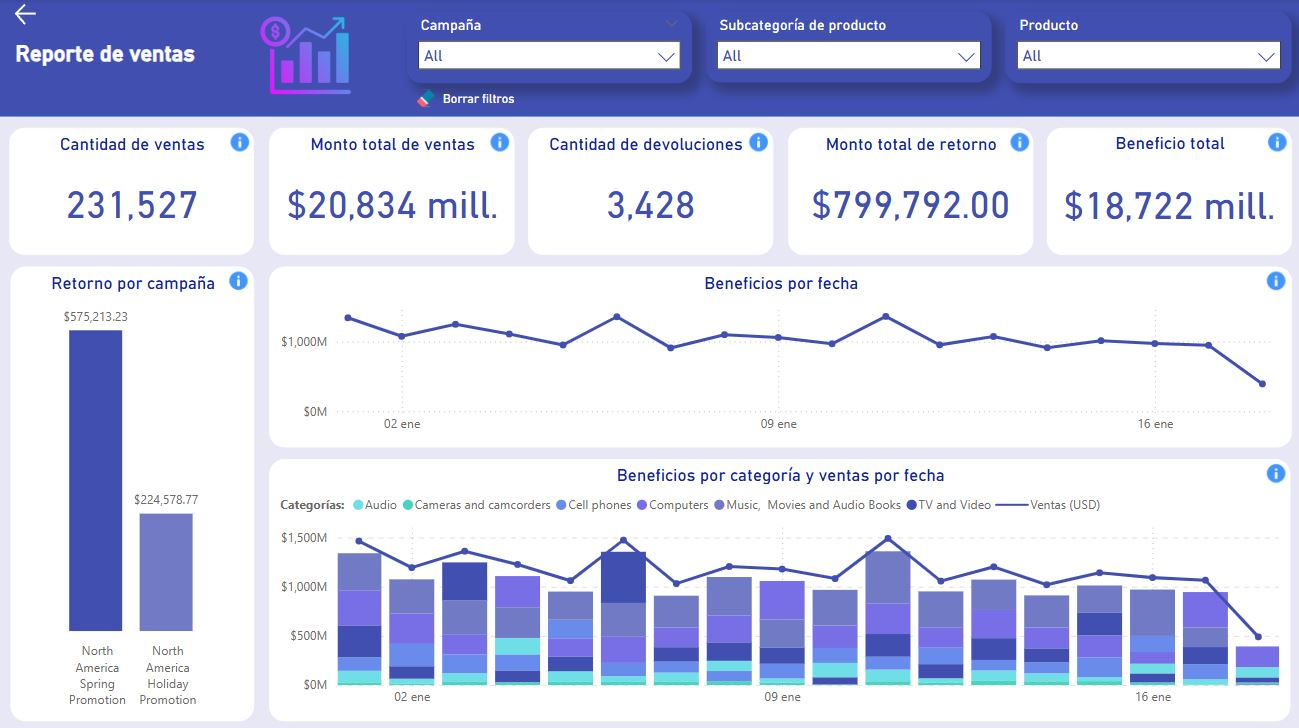

The page's visual inventory and layout, read from the dashboard file:
{"tool":"powerbi","page":{"name":"Reporte","canvas":[1280,720],"ordinal":1},"visuals":[{"type":"clusteredColumnChart","title":"Retorno por campaña","fields":{"Category":["Promotion.PromotionName"],"Y":["Medidas.returnAmount"]},"box":[12.3,262.6,239.3,446.6],"z":0},{"type":"card","title":"Cantidad de ventas","fields":{"Values":["Medidas.salesQuantity"]},"box":[11,126.1,240,125.2],"z":1000},{"type":"card","title":"Cantidad de devoluciones","fields":{"Values":["Medidas.returnQuantity"]},"box":[520.2,126.4,240.5,125.2],"z":2000},{"type":"lineChart","title":"Beneficios por fecha","fields":{"Category":["Sales.DateKey"],"Y":["Medidas.profit"]},"box":[266.3,262.6,1003.7,177.9],"z":3000},{"type":"lineStackedColumnComboChart","title":"Beneficios por categoría y ventas por fecha","fields":{"Category":["Sales.DateKey"],"Y":["Medidas.profit"],"Y2":["Medidas.salesAmount"],"Series":["ProductCombined.ProductCategory"]},"box":[266.3,451.5,1002.5,257.7],"z":4000},{"type":"shape","box":[0,0,1279.8,115.3],"z":5000},{"type":"slicer","fields":{"Values":["ProductCombined.ProductSubcategory"]},"box":[694.5,12.3,281,69.9],"z":6000},{"type":"slicer","fields":{"Values":["ProductCombined.ProductName"]},"box":[989,12.3,281,70],"z":7000},{"type":"slicer","fields":{"Values":["Promotion.PromotionName"]},"box":[401.2,12,279.8,70],"z":8000},{"type":"textbox","box":[12.3,35.6,228.2,39.3],"z":9000},{"type":"actionButton","box":[222.1,262.6,28,28],"z":10000},{"type":"actionButton","box":[223.3,126.4,28.2,28.2],"z":11000},{"type":"textbox","box":[536.2,127.6,211,35.6],"z":12000},{"type":"actionButton","box":[732.5,126.4,28.2,28.2],"z":13000},{"type":"actionButton","box":[1240.5,262.6,28.2,28.2],"z":14000},{"type":"actionButton","box":[1240.5,451.5,28.2,28.2],"z":15000},{"type":"actionButton","box":[12.3,0,35,30],"z":16000},{"type":"actionButton","box":[407.4,84.7,128.8,25.8],"z":19000},{"type":"card","title":"Monto total de ventas","fields":{"Values":["Medidas.formatoVentas"]},"box":[266.3,126.4,240.5,125.2],"z":20000},{"type":"card","title":"Beneficio total","fields":{"Values":["Medidas.formatoProfit"]},"box":[1029.5,126.4,240.5,125.2],"z":21000},{"type":"actionButton","box":[478.5,126.4,28.2,28.2],"z":22000},{"type":"actionButton","box":[1241.7,126.4,28.2,28.2],"z":23000},{"type":"card","title":"Monto total de retorno","fields":{"Values":["Medidas.formatoRetorno"]},"box":[775.5,126.4,240.5,125.2],"z":24000},{"type":"actionButton","box":[989,126.4,28.2,28.2],"z":25000},{"type":"image","box":[251.5,4.9,100.6,100.6],"z":26000}]}

Visuals, with their boxes in screenshot pixels (x1, y1, x2, y2), scaled from the page's 1280x720 canvas onto the 1299x728 screenshot:
"Retorno por campaña" clusteredColumnChart: [x1=12, y1=266, x2=255, y2=717]
"Cantidad de ventas" card: [x1=11, y1=128, x2=255, y2=254]
"Cantidad de devoluciones" card: [x1=528, y1=128, x2=772, y2=254]
"Beneficios por fecha" lineChart: [x1=270, y1=266, x2=1289, y2=445]
"Beneficios por categoría y ventas por fecha" lineStackedColumnComboChart: [x1=270, y1=457, x2=1288, y2=717]
shape: [x1=0, y1=0, x2=1298, y2=117]
slicer - ProductCombined.ProductSubcategory: [x1=705, y1=12, x2=990, y2=83]
slicer - ProductCombined.ProductName: [x1=1004, y1=12, x2=1289, y2=83]
slicer - Promotion.PromotionName: [x1=407, y1=12, x2=691, y2=83]
textbox: [x1=12, y1=36, x2=244, y2=76]
actionButton: [x1=225, y1=266, x2=254, y2=294]
actionButton: [x1=227, y1=128, x2=255, y2=156]
textbox: [x1=544, y1=129, x2=758, y2=165]
actionButton: [x1=743, y1=128, x2=772, y2=156]
actionButton: [x1=1259, y1=266, x2=1288, y2=294]
actionButton: [x1=1259, y1=457, x2=1288, y2=485]
actionButton: [x1=12, y1=0, x2=48, y2=30]
actionButton: [x1=413, y1=86, x2=544, y2=112]
"Monto total de ventas" card: [x1=270, y1=128, x2=514, y2=254]
"Beneficio total" card: [x1=1045, y1=128, x2=1289, y2=254]
actionButton: [x1=486, y1=128, x2=514, y2=156]
actionButton: [x1=1260, y1=128, x2=1289, y2=156]
"Monto total de retorno" card: [x1=787, y1=128, x2=1031, y2=254]
actionButton: [x1=1004, y1=128, x2=1032, y2=156]
image: [x1=255, y1=5, x2=357, y2=107]
